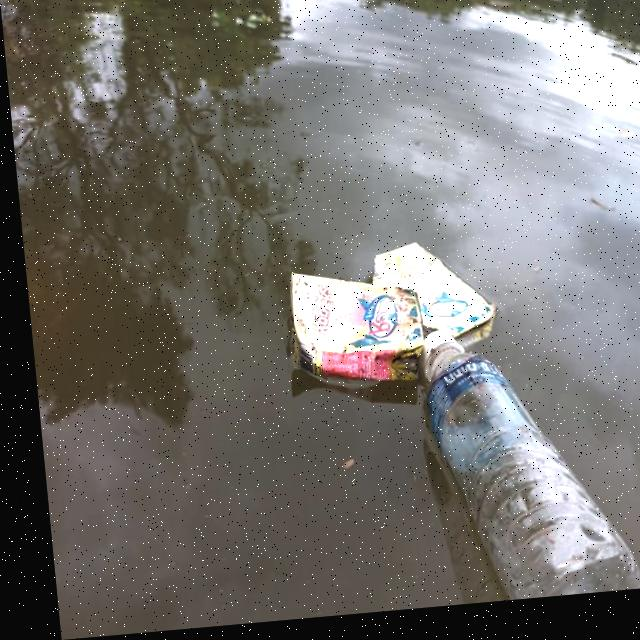paper: (274, 262, 435, 426), (352, 236, 498, 355)
waterbottle: (406, 319, 640, 613)
